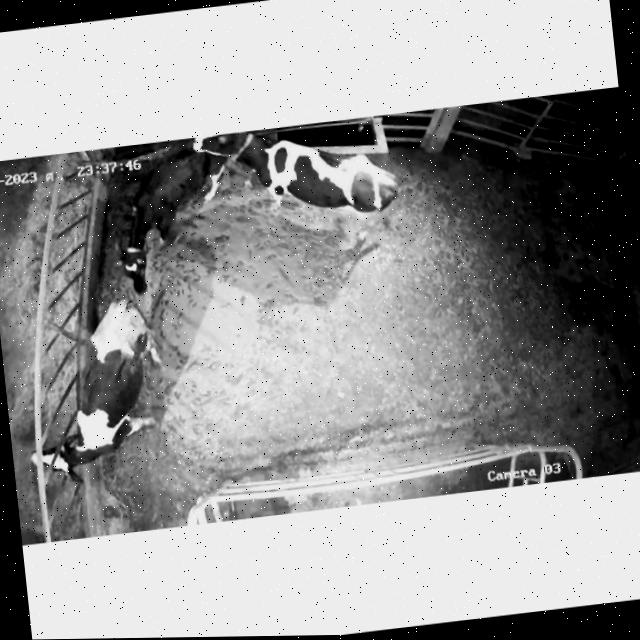propping: (156, 124, 304, 189)
